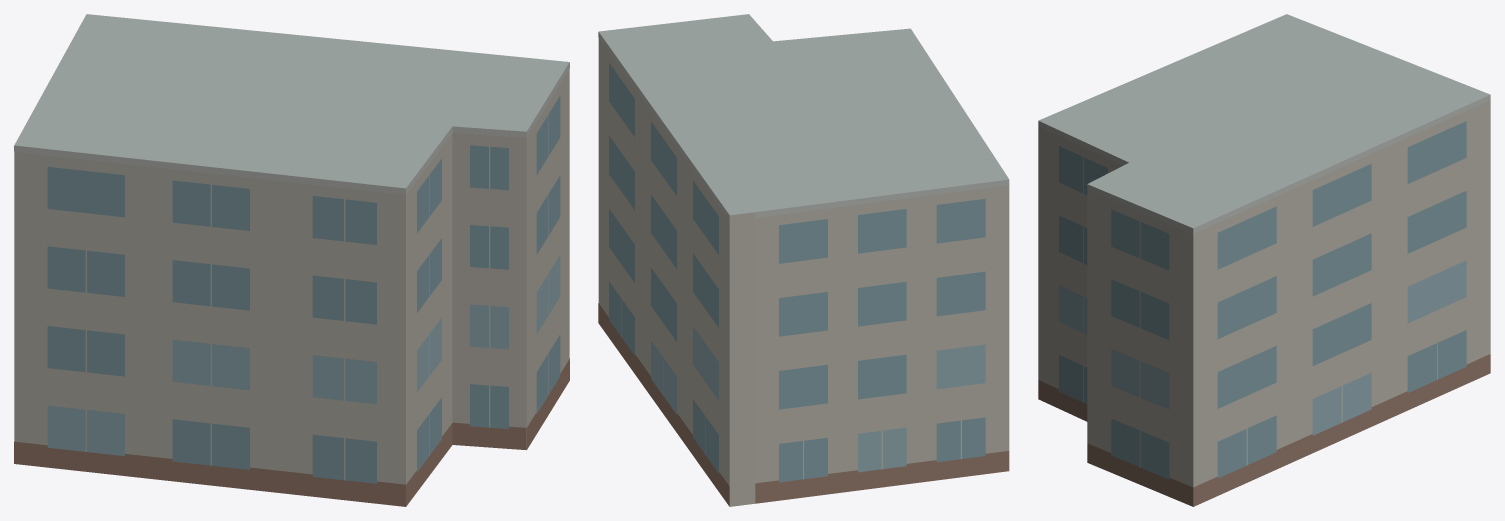
The model's file is survey-upis-32949589.glb.
3 views of the same model, side by side, from view 1: azimuth 30°, elevation 25°; view 2: azimuth 150°, elevation 25°; view 3: azimuth 270°, elevation 25° (orthographic). The views are drawn at different scales.
Parts seen in each view (by area): view 1: survey-upis-32949589.tmp; view 2: survey-upis-32949589.tmp; view 3: survey-upis-32949589.tmp.
Part boxes in pixels (x1,y1,x2,y2): survey-upis-32949589.tmp: (14, 14, 569, 506); survey-upis-32949589.tmp: (598, 14, 1009, 506); survey-upis-32949589.tmp: (1038, 14, 1490, 506).
Bounding box in the file's own units: 20.14 × 12.2 × 17.96.
